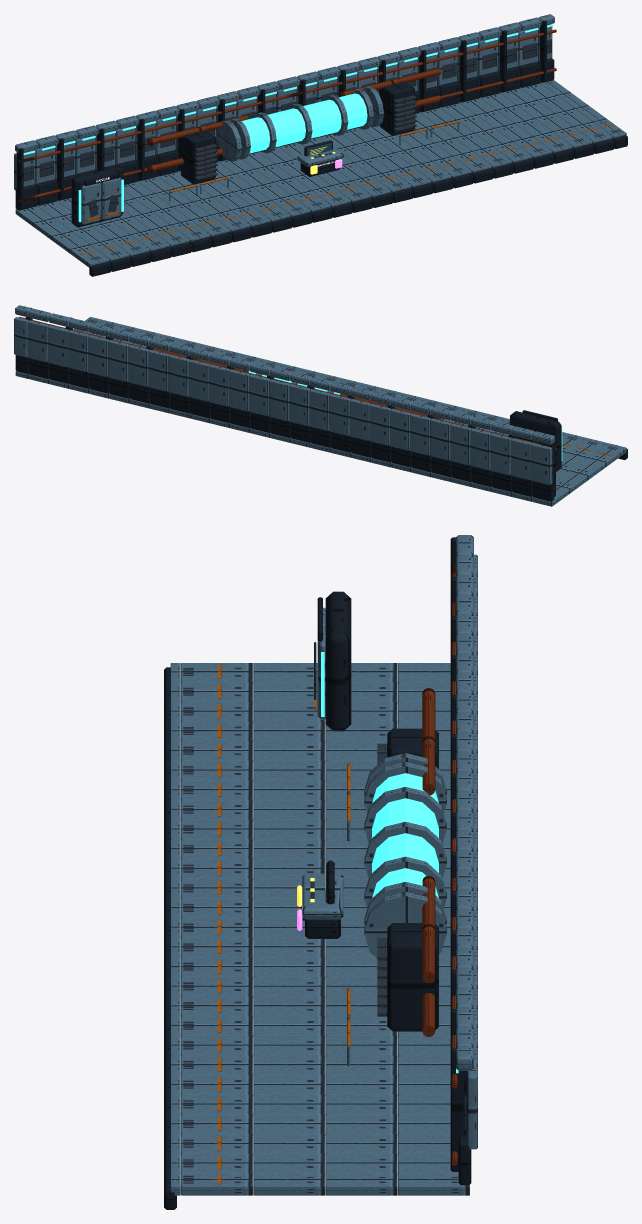
Rendered from colossal-reator.glb.
The picture shows the model from 3 angles, top to bottom: view 1: azimuth 30°, elevation 25°; view 2: azimuth 150°, elevation 25°; view 3: azimuth 270°, elevation 25°; orthographic projection. The views are drawn at different scales.
Visible parts, largest first — view 1: Chapa modular do piso, Longarina frontal, Placa de inspeção, Luz embutida, Tubulação longitudinal, Sinalização do corredor; view 2: Chapa modular do piso, Longarina frontal, Tubulação longitudinal, Placa de inspeção; view 3: Chapa modular do piso, Longarina frontal, Luz embutida, Tubulação longitudinal, Placa de inspeção, Sinalização do corredor.
Boxes of the visible parts, x1,y1,x2,y2 form: Chapa modular do piso: (14, 14, 626, 267); Longarina frontal: (15, 20, 627, 276); Placa de inspeção: (23, 39, 620, 260); Luz embutida: (23, 24, 553, 222); Tubulação longitudinal: (18, 29, 556, 201); Sinalização do corredor: (81, 120, 612, 254); Chapa modular do piso: (14, 305, 626, 506); Longarina frontal: (15, 307, 627, 501); Tubulação longitudinal: (19, 317, 556, 489); Placa de inspeção: (87, 319, 617, 449); Chapa modular do piso: (170, 535, 477, 1195); Longarina frontal: (164, 537, 471, 1209); Luz embutida: (321, 652, 458, 1073); Tubulação longitudinal: (422, 563, 457, 1165); Placa de inspeção: (183, 642, 466, 1183); Sinalização do corredor: (217, 665, 350, 1184).
Bounding box in the file's own units: 480 × 65.5 × 122.
10 materials, 5 textured.
